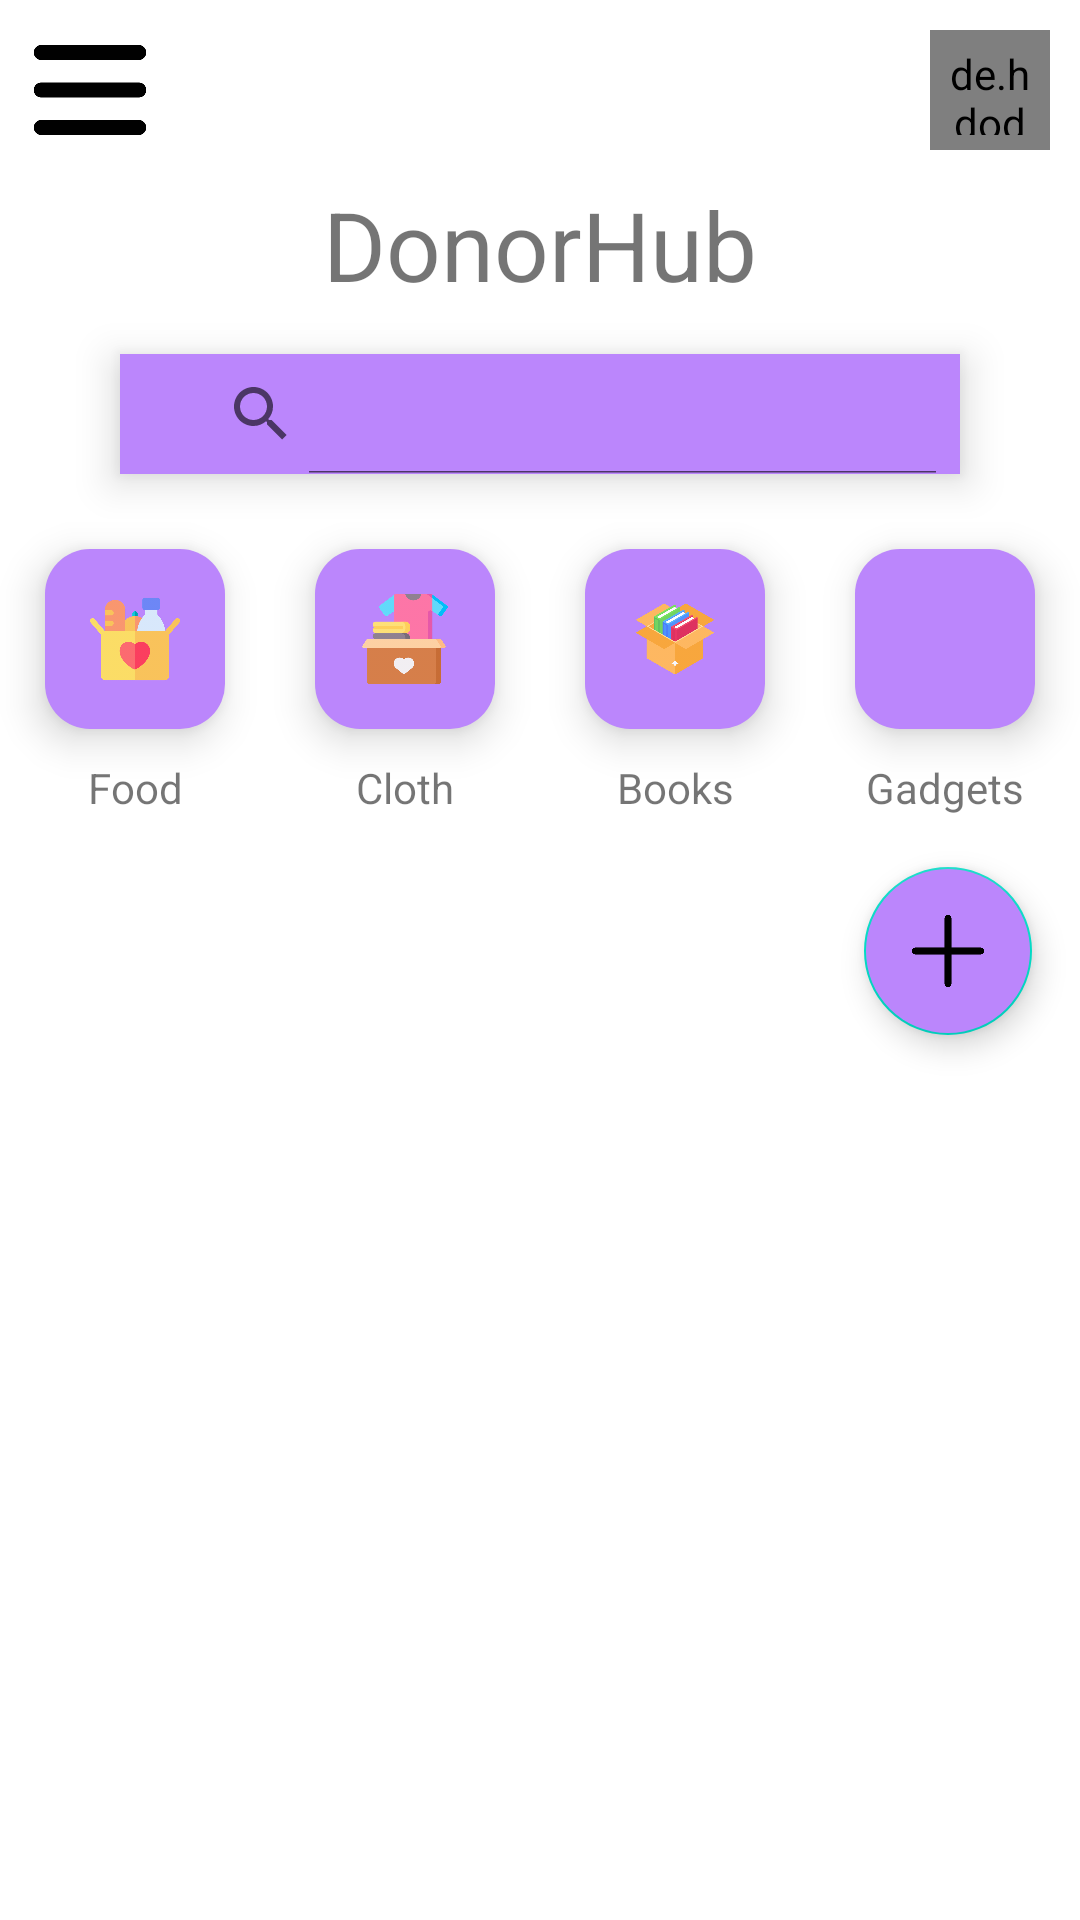

Where to tap for icons on this 1080x1920 app screen, as (x,y):
addrequest: (948,951)
menu: (90,90)
